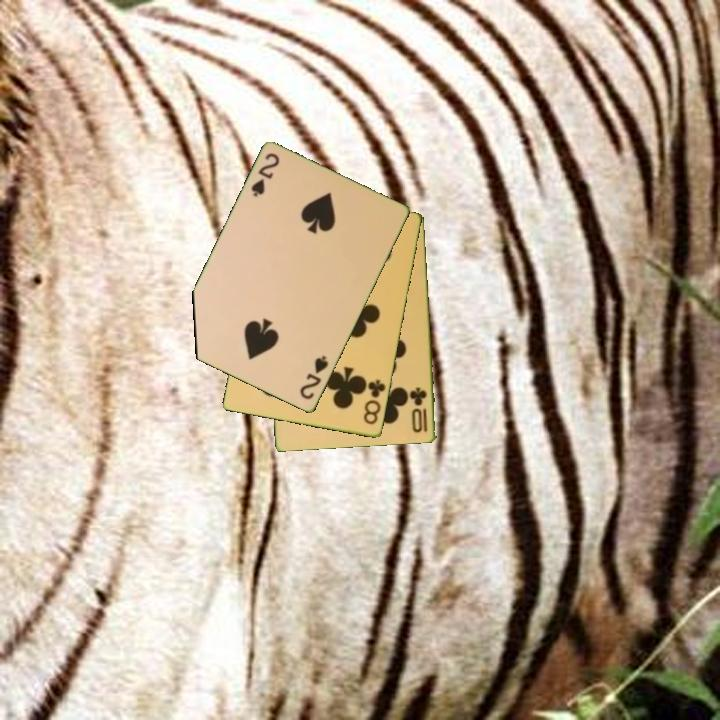10c: (408, 384, 430, 436)
2s: (296, 353, 332, 403), (248, 150, 283, 200)
8c: (360, 376, 388, 428)
